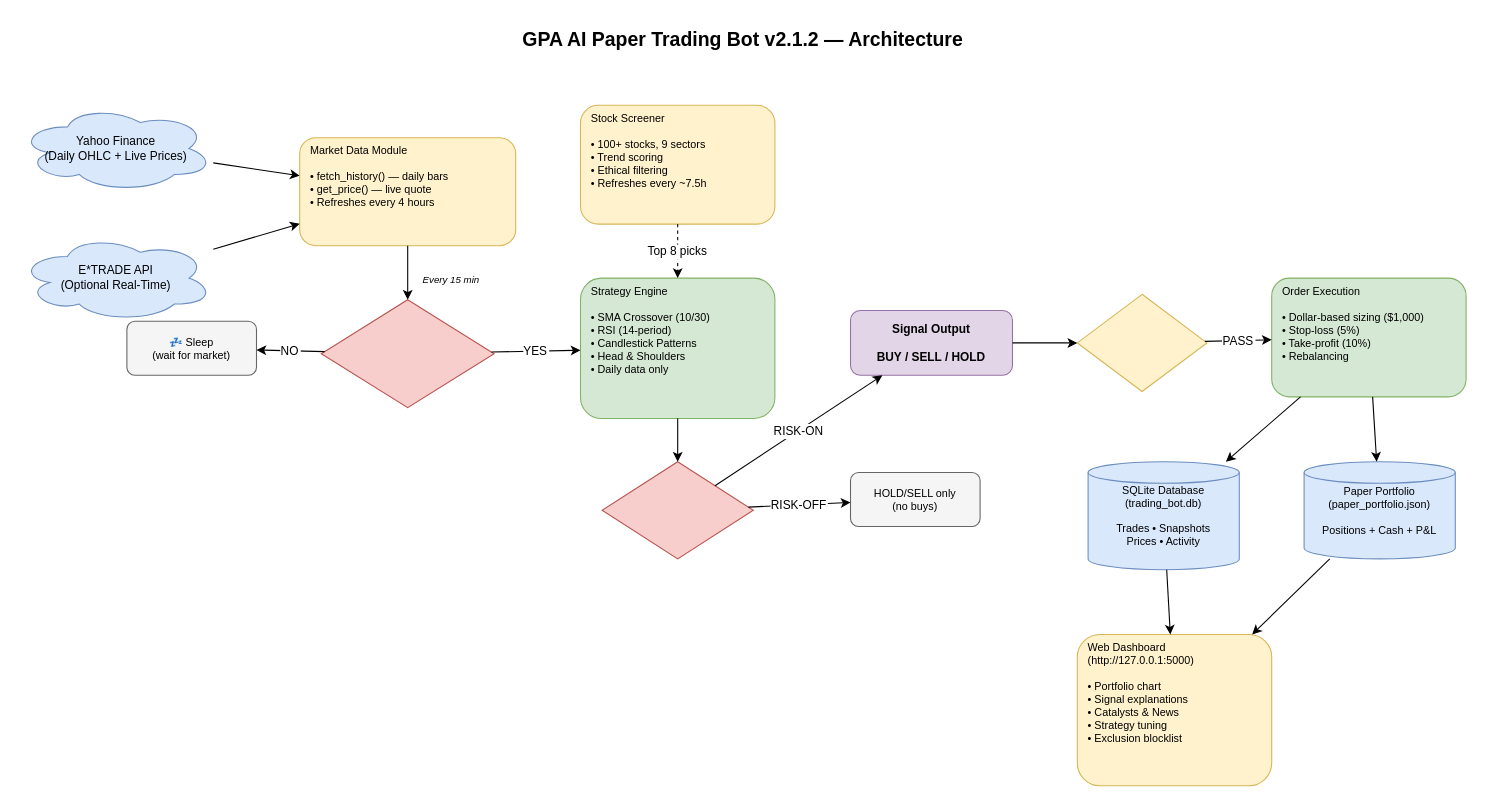
This 1485x805 diagram has some shape labels left out. The centre of each missing label's shape, as x and y in pixels:
24h Cooldown per symbol: [1141,342]
Market Open? (Mon-Fri 9:30-16:00 ET + holiday check via SPY): [407,353]
Market Regime SPY > 50-day SMA?: [677,510]
